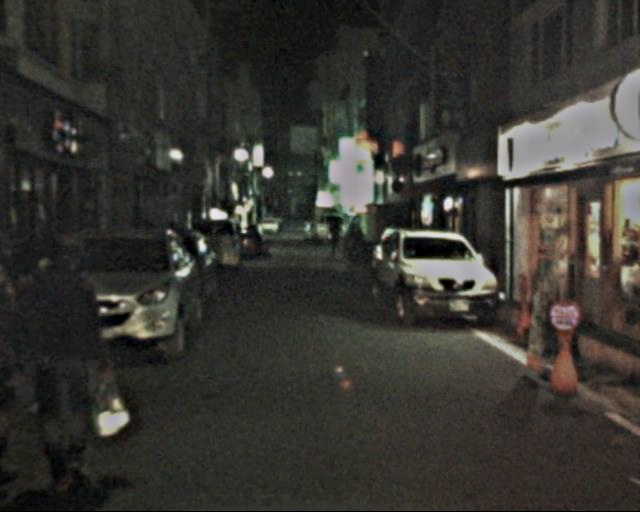person: (14, 230, 125, 494), (327, 216, 345, 258)
